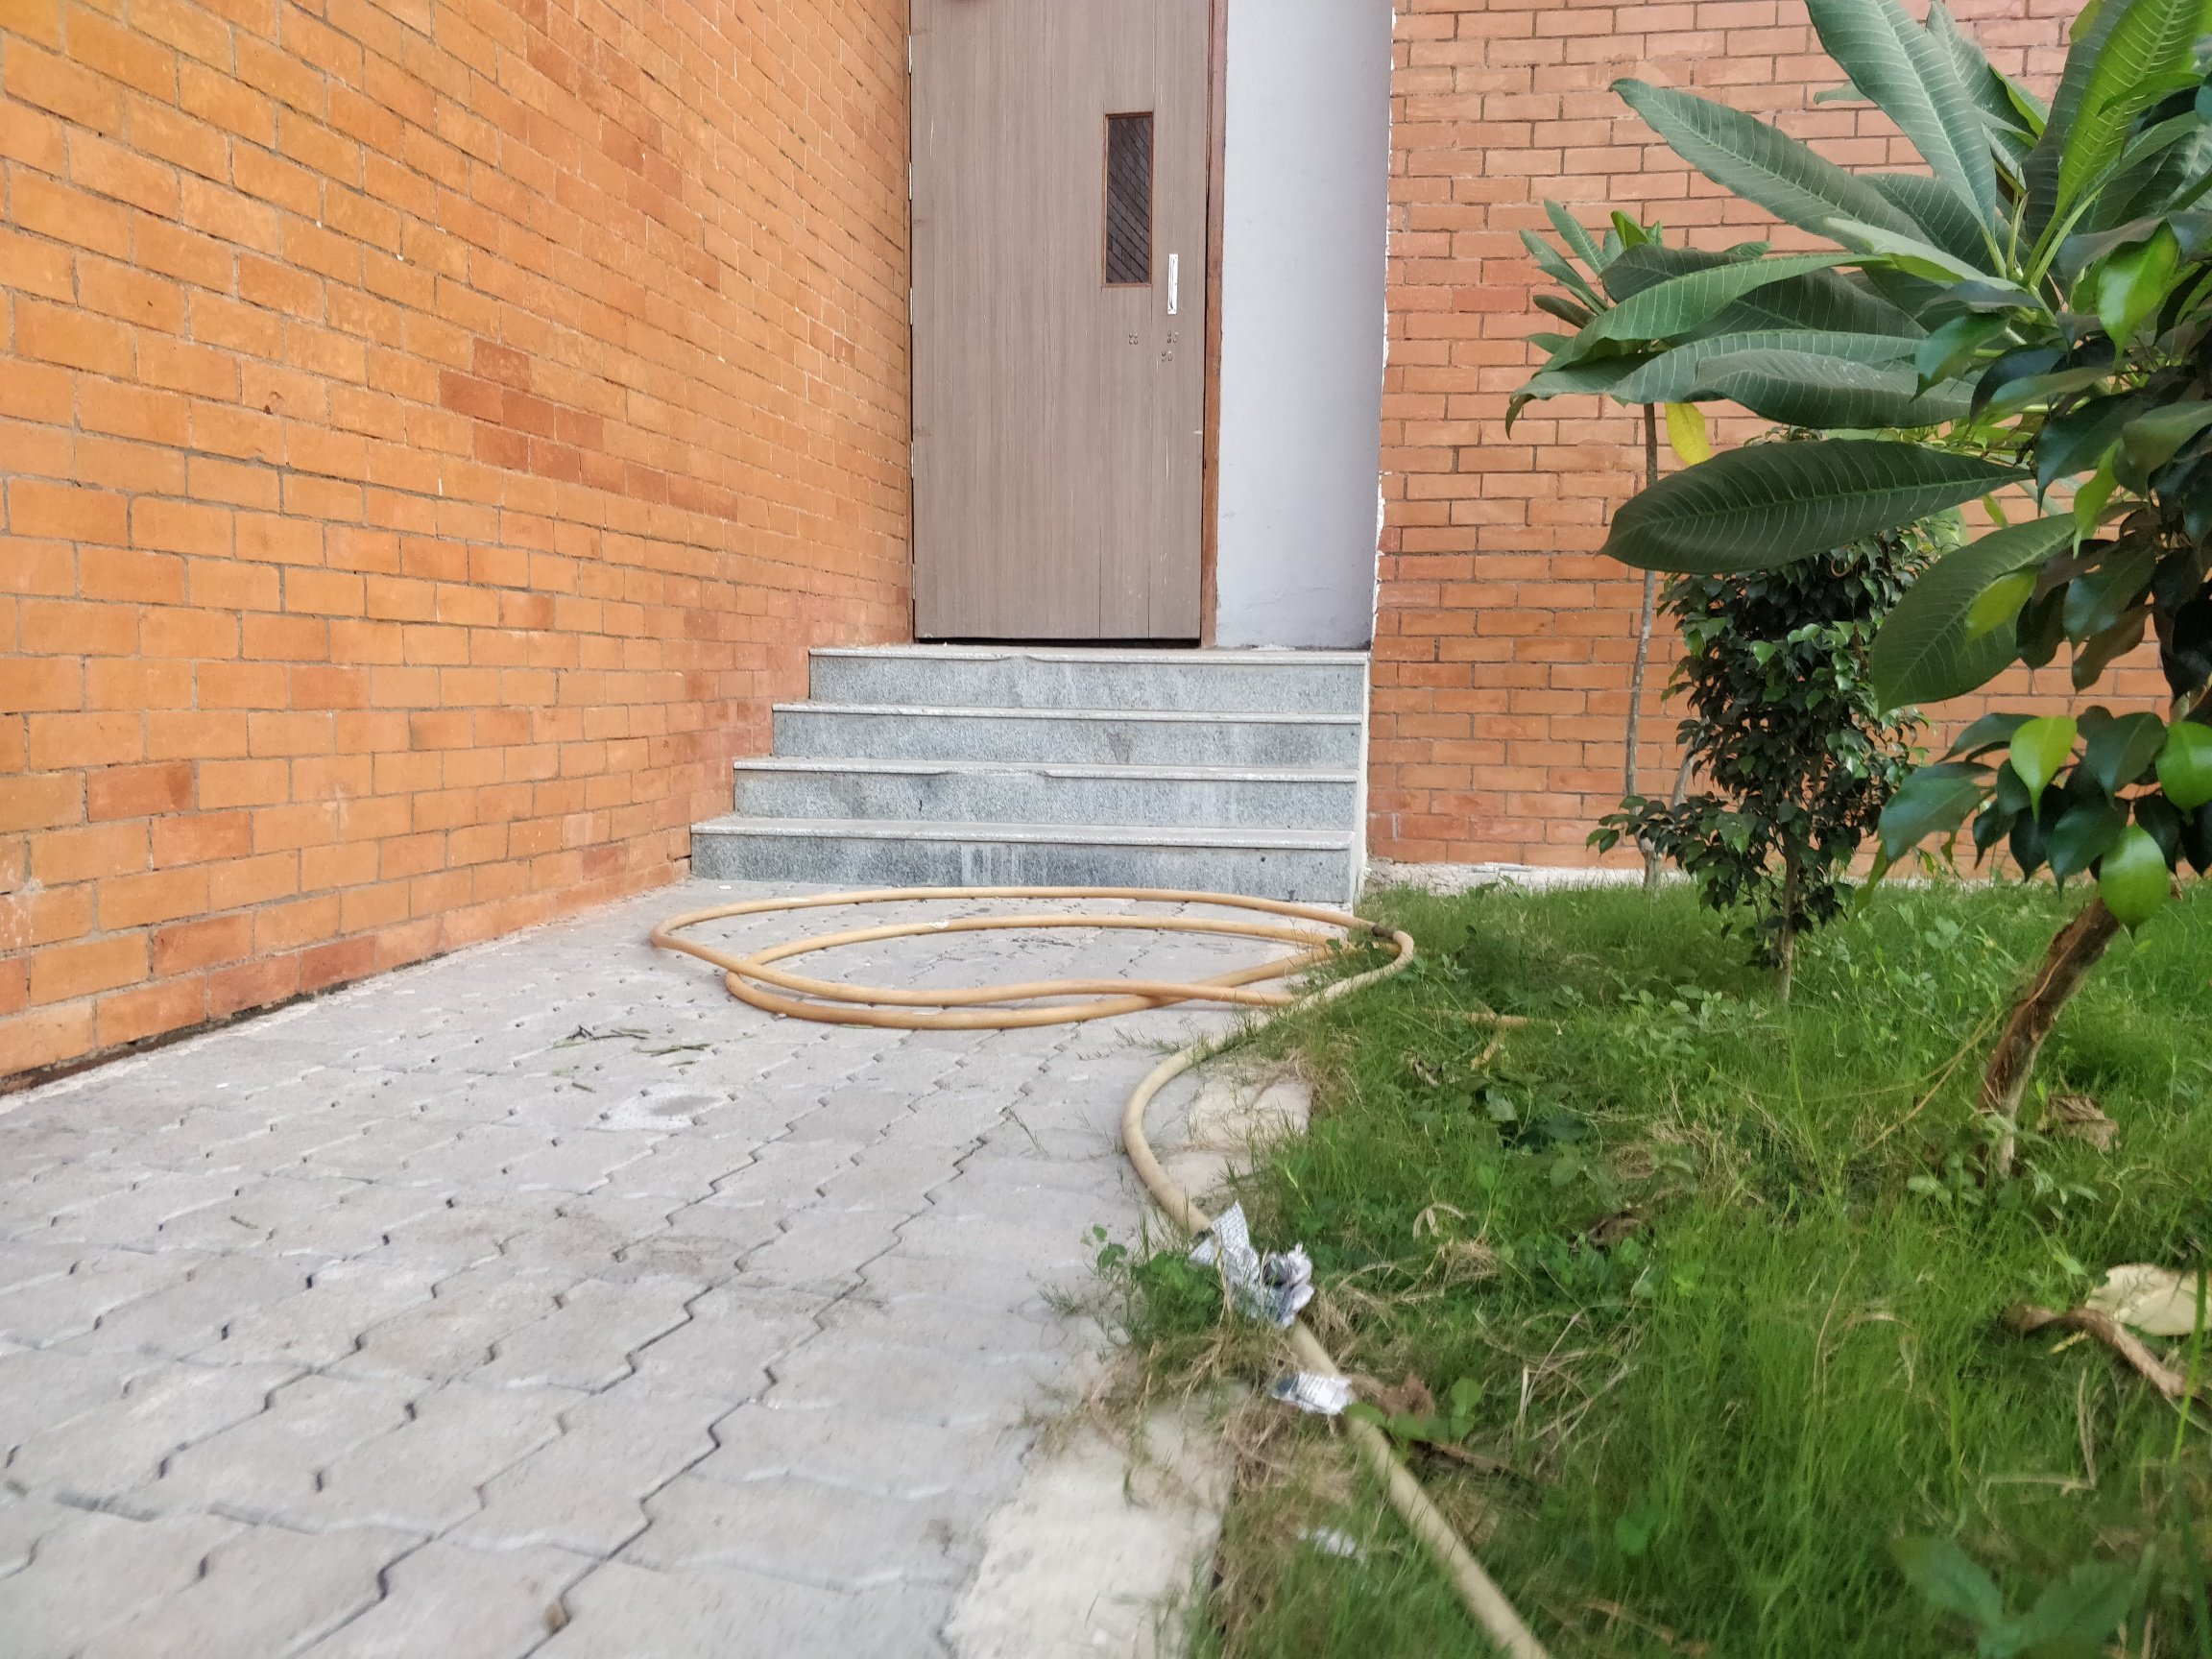stairs_up: (658, 633, 1397, 901)
